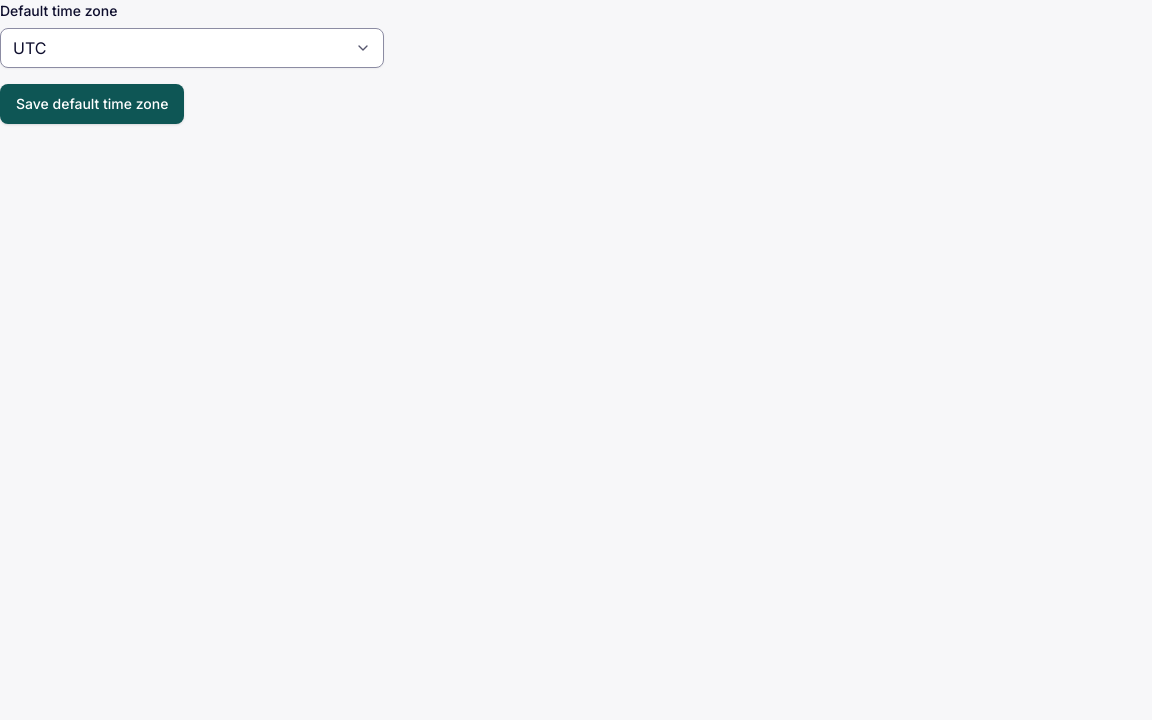
DefaultTimeZoneForm › saves the chosen zone, and says so
The image size is (1152, 720).
Step 1. Click the dropdown named "Default time zone" → coordinates (30, 48), box [0, 28, 384, 68]
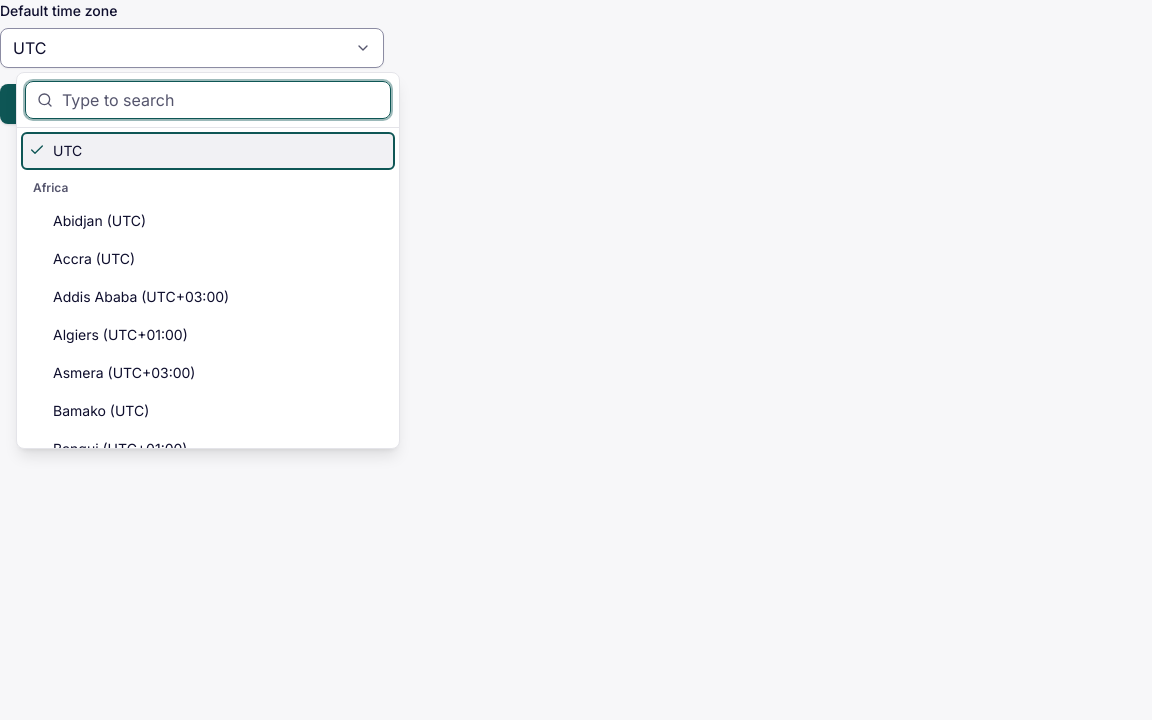
Step 2. Type keys "amsterdam{Enter}"
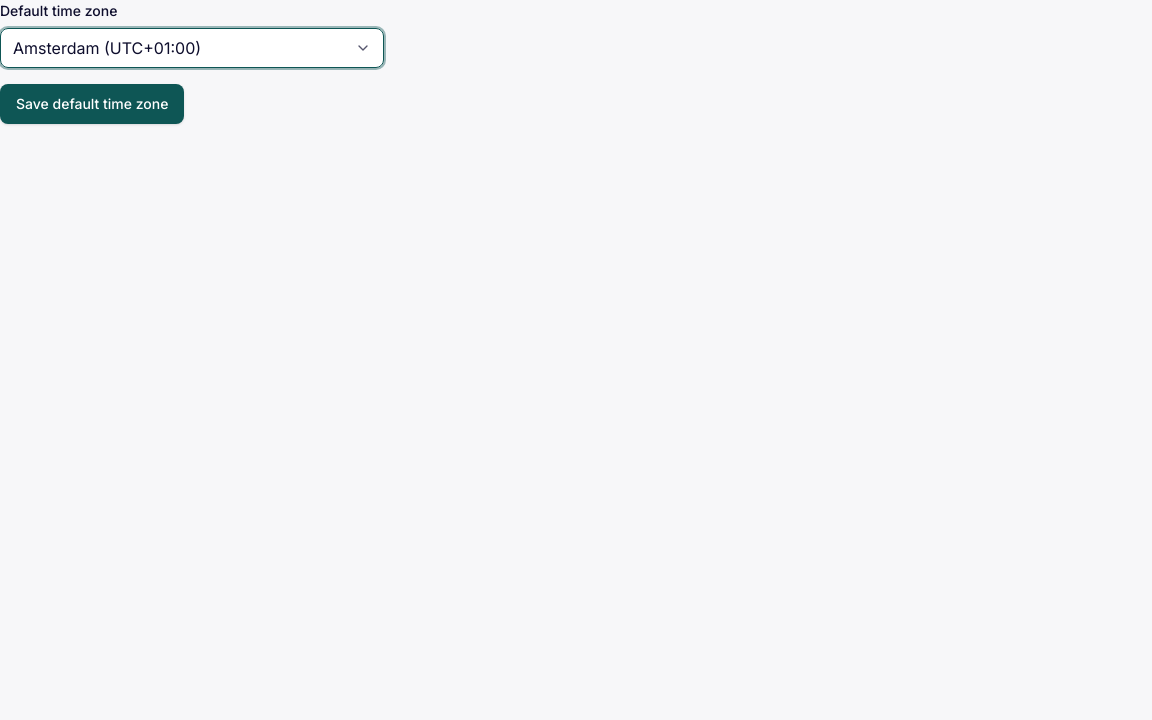
Step 3. Click the button "Save default time zone" → coordinates (92, 104), box [0, 84, 184, 124]
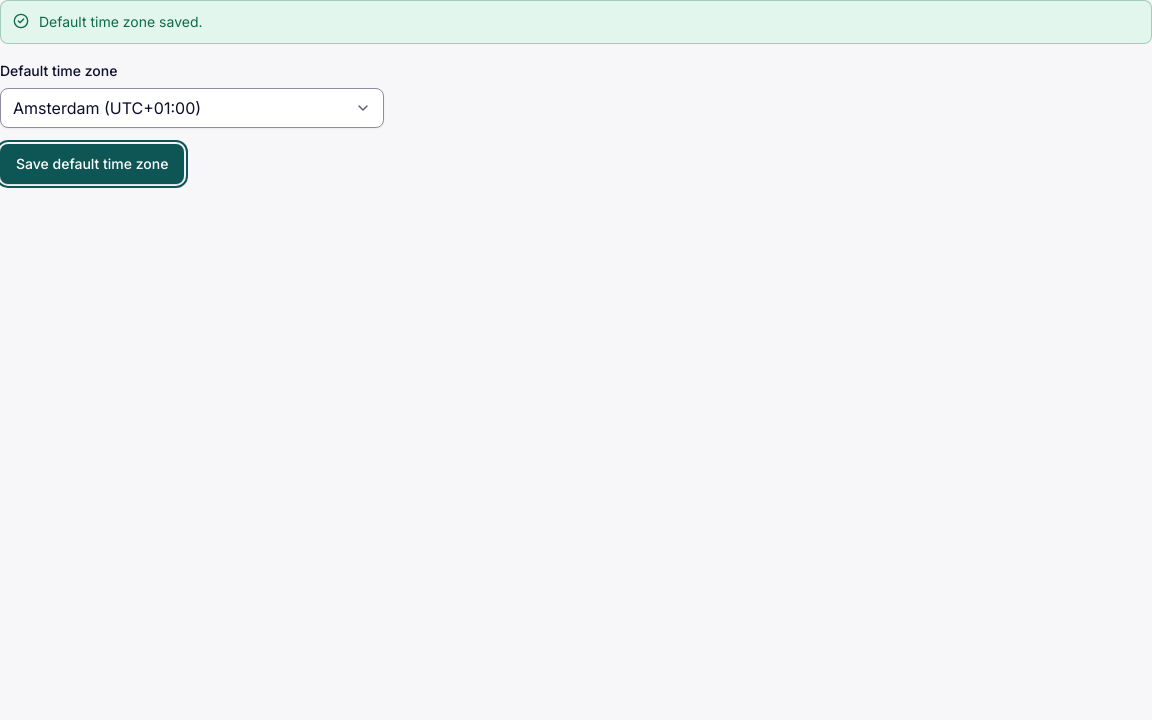
Result: the dropdown named "Default time zone" reads "Amsterdam (UTC+01:00)" at [0, 88, 384, 128]
Result: the text "Default time zone saved." is shown at [39, 13, 202, 30]
